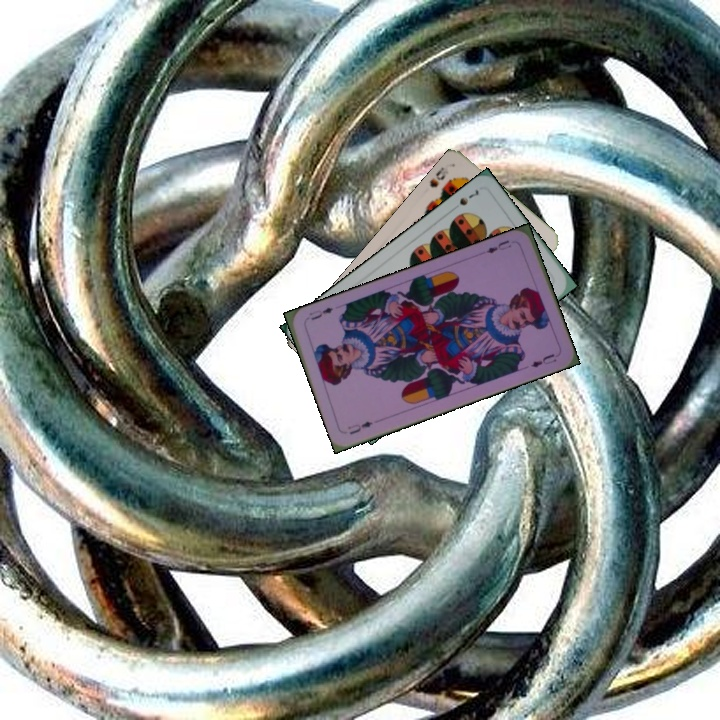EU: (482, 236, 514, 256), (343, 417, 375, 437)
S7: (455, 185, 481, 208)
S8: (425, 161, 453, 190)
